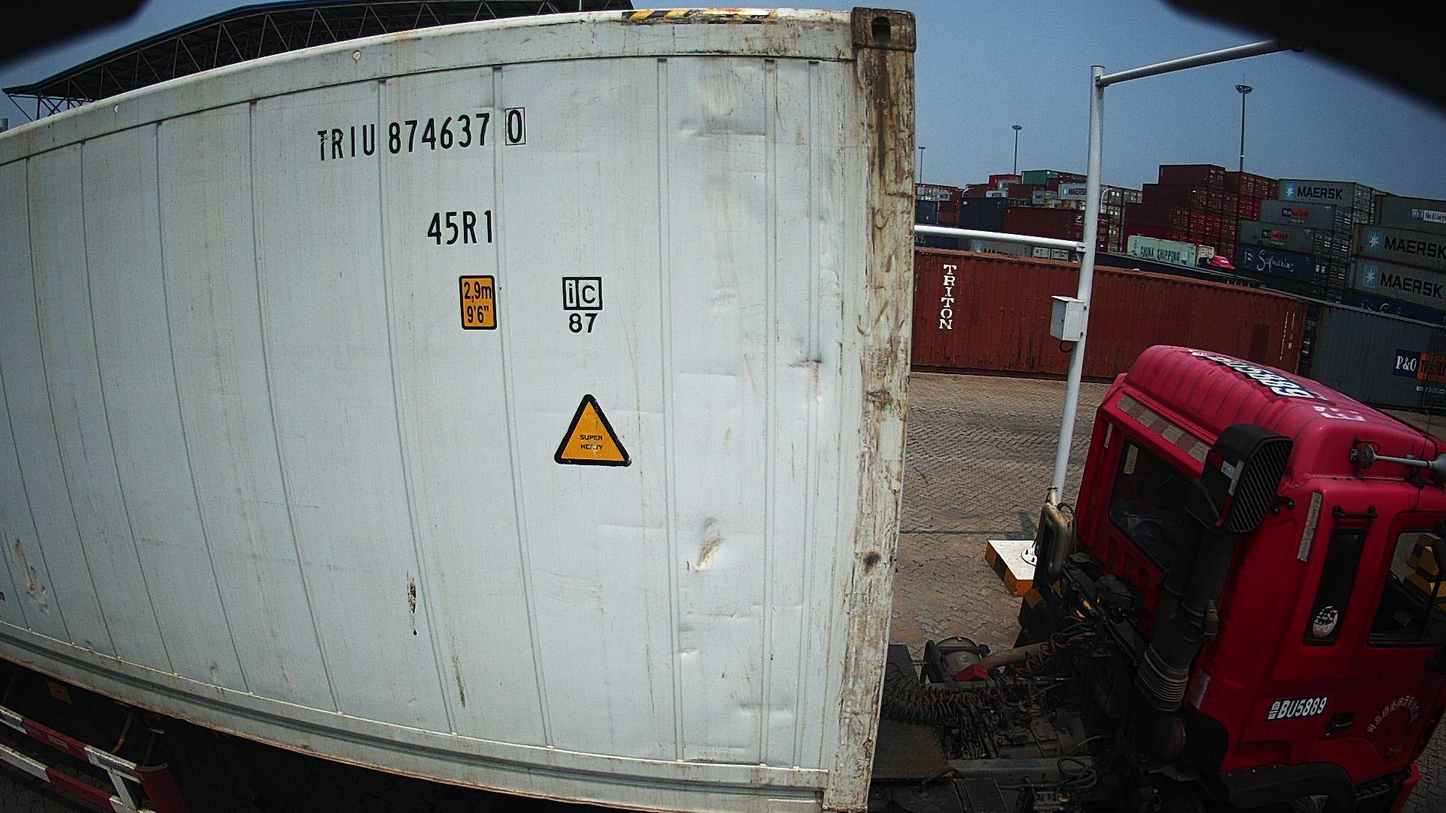container-numbers: (313, 106, 532, 165), (423, 207, 499, 249)
